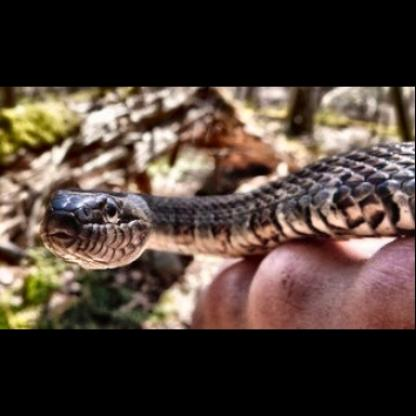Snake: (15, 153, 404, 283)
